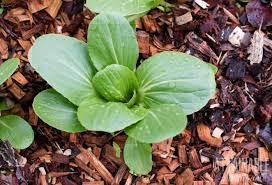Healthy-Pechay: (21, 5, 221, 171), (88, 11, 138, 73), (33, 90, 85, 133), (85, 1, 171, 23), (0, 114, 34, 149), (88, 37, 111, 73), (54, 58, 84, 83), (245, 1, 272, 28), (0, 58, 19, 88), (64, 85, 89, 107), (0, 97, 16, 112), (1, 117, 15, 131), (178, 99, 179, 109)
